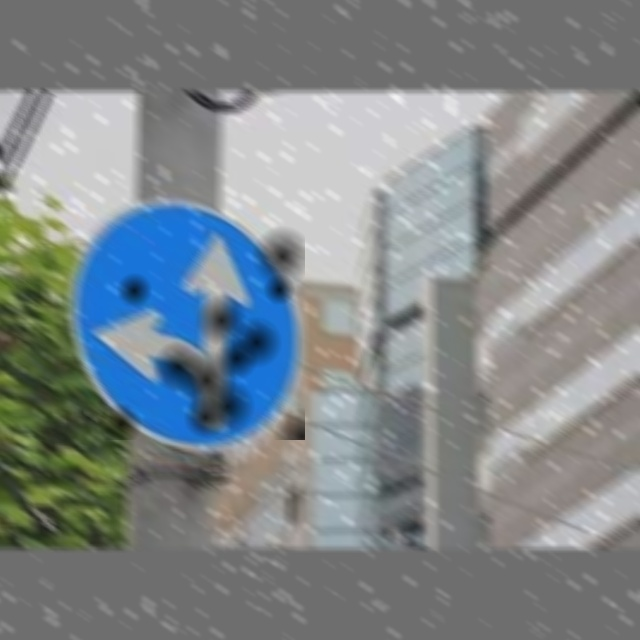Compulsory_Ahead_or_Turn_Left: (72, 197, 305, 440)
